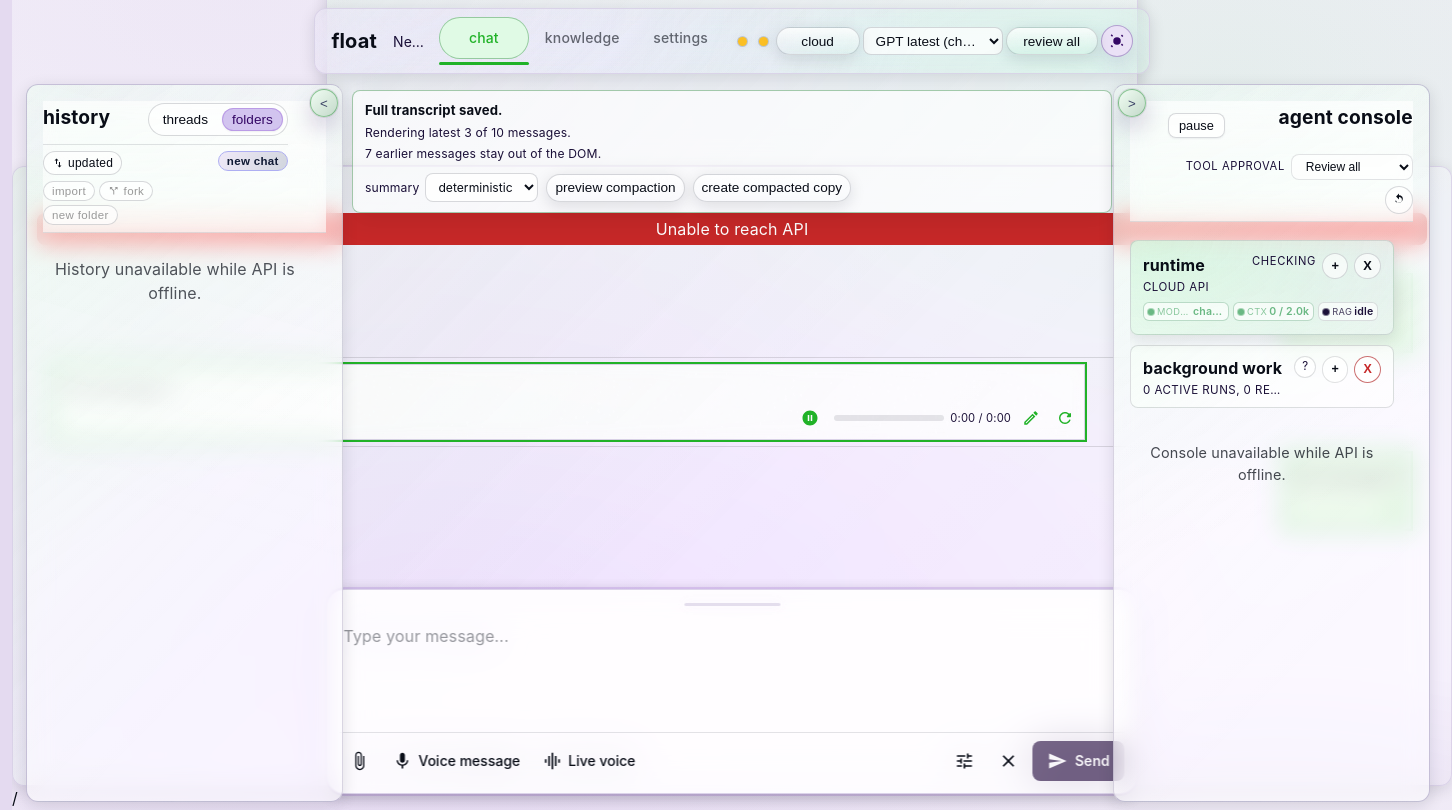
it: Chat › creates a compacted conversation copy from the long chat notice
(page scrolled)
Click the button "create compacted copy" at (772, 188), box [692, 174, 851, 202]
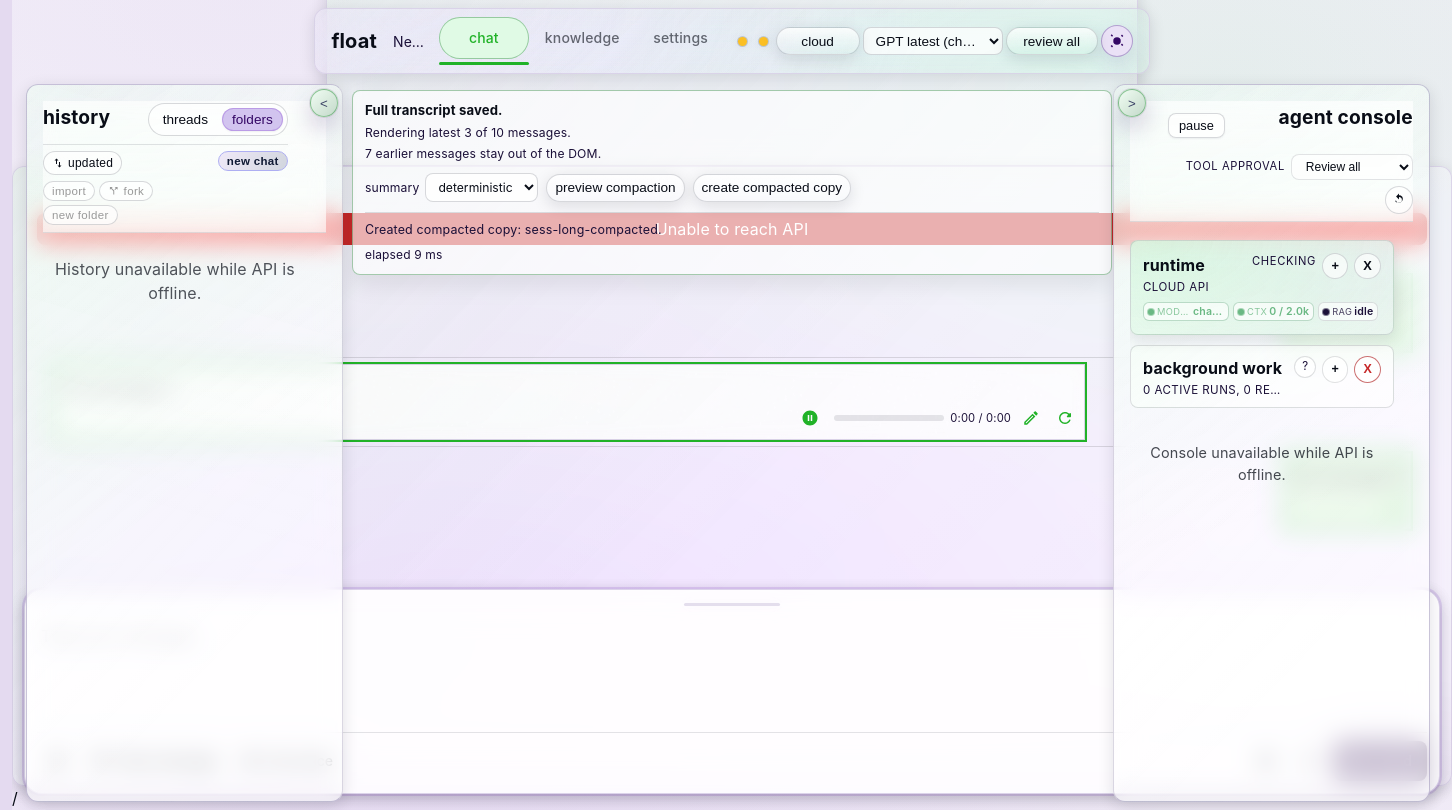
Check: the text "Created compacted copy: sess-long-compacted." is shown, box [365, 222, 662, 237]
